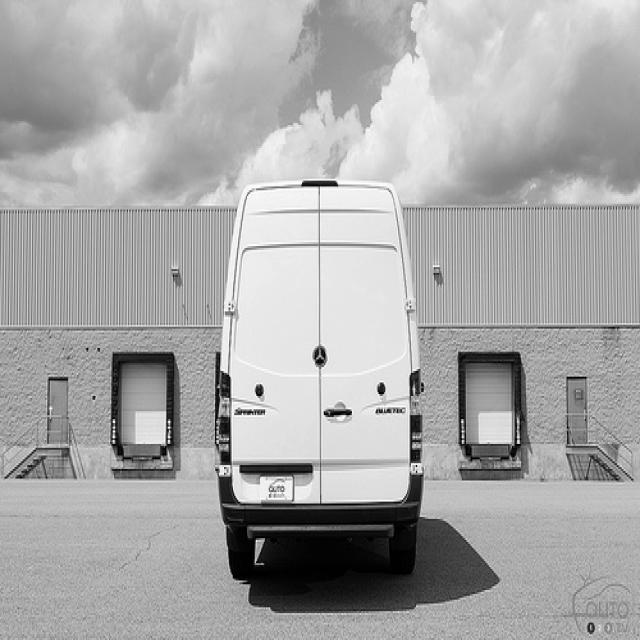car: (214, 177, 424, 578)
